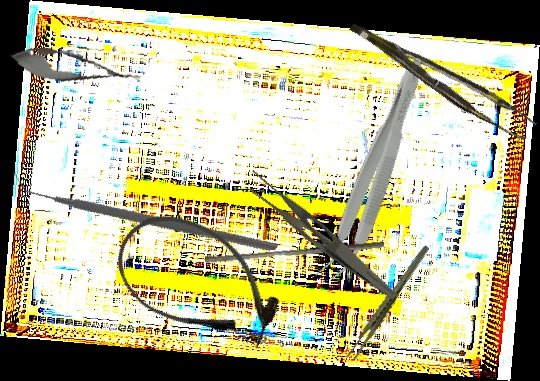Cannula: (99, 194, 297, 368)
Chopper: (11, 98, 280, 323)
Dressing Forceps: (236, 166, 411, 302)
Micro Scissor: (6, 40, 144, 95)
Pusher: (204, 234, 385, 270)
Tissue Forceps: (313, 52, 433, 289), (349, 1, 537, 152), (329, 244, 448, 363)
